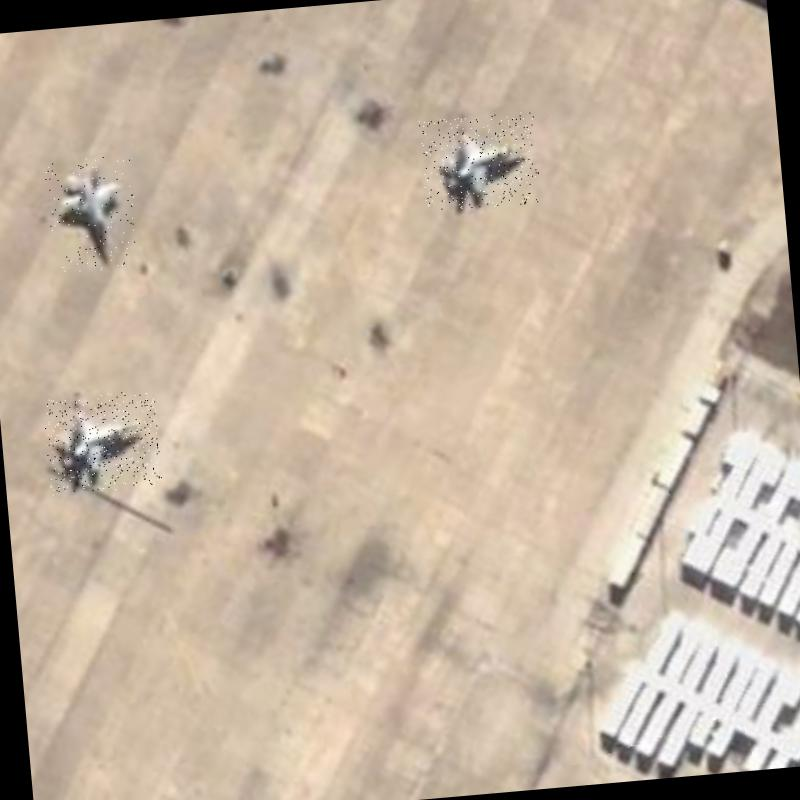A16: (42, 389, 162, 496), (418, 111, 542, 213), (44, 154, 140, 274)
